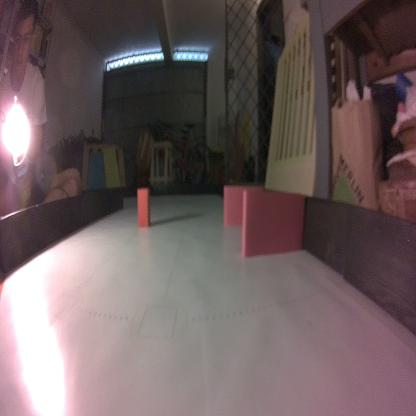magenta: (241, 186, 305, 263), (222, 184, 266, 228)
red: (136, 186, 152, 231)
